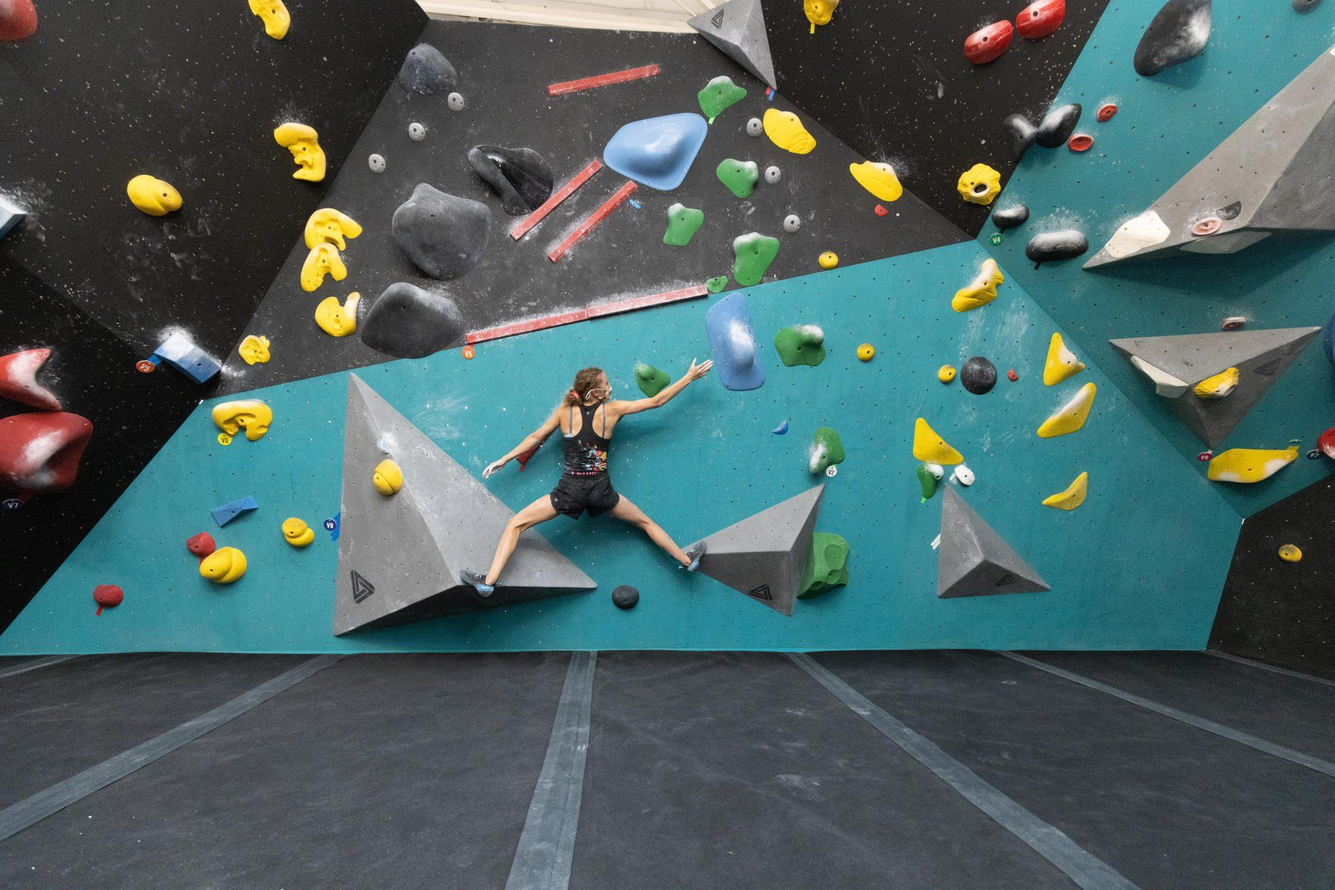black-hold: (377, 176, 500, 292), (597, 83, 714, 201), (355, 272, 472, 379), (463, 118, 565, 225), (698, 289, 769, 398), (0, 412, 93, 491), (1133, 0, 1212, 77), (1034, 378, 1111, 454), (393, 38, 468, 110), (270, 112, 337, 192), (1100, 203, 1174, 272), (294, 199, 365, 269), (946, 255, 1015, 326), (0, 345, 63, 422), (896, 415, 966, 484), (796, 529, 856, 608), (754, 97, 820, 167), (153, 328, 223, 392), (844, 145, 912, 210), (1023, 330, 1087, 395), (120, 168, 188, 225), (1121, 354, 1190, 406), (1031, 92, 1086, 157), (950, 155, 1009, 215), (289, 237, 350, 295), (958, 16, 1022, 70), (1207, 448, 1299, 485), (711, 145, 769, 203), (194, 539, 254, 595), (690, 66, 750, 122), (208, 395, 275, 444), (1039, 470, 1101, 522), (989, 108, 1043, 163), (952, 349, 1006, 403), (771, 322, 828, 371), (312, 286, 362, 340), (658, 200, 706, 253), (733, 232, 779, 287), (1190, 364, 1247, 408), (1023, 228, 1090, 265), (245, 0, 300, 45), (807, 425, 850, 480), (626, 353, 674, 401), (365, 455, 410, 501), (1015, 0, 1066, 39), (275, 511, 319, 555), (209, 492, 261, 529), (0, 0, 38, 42), (989, 201, 1033, 233), (912, 462, 946, 501), (183, 528, 220, 563), (237, 334, 272, 366), (803, 0, 839, 25), (1189, 214, 1225, 239), (1214, 199, 1246, 225), (1092, 98, 1121, 126), (950, 461, 978, 489), (611, 584, 640, 611), (1323, 310, 1335, 367), (93, 585, 124, 607), (853, 339, 879, 365), (934, 361, 960, 387), (1316, 426, 1335, 461), (1316, 428, 1335, 461), (1067, 132, 1095, 154), (704, 274, 731, 296), (407, 120, 427, 144), (1278, 544, 1303, 563), (770, 419, 793, 439), (818, 251, 839, 270), (368, 153, 386, 174), (1293, 0, 1322, 13), (447, 92, 465, 112), (783, 214, 801, 233), (871, 202, 889, 220), (746, 118, 763, 137), (1222, 317, 1246, 330), (765, 165, 781, 184), (1004, 368, 1020, 384), (628, 198, 642, 210)
